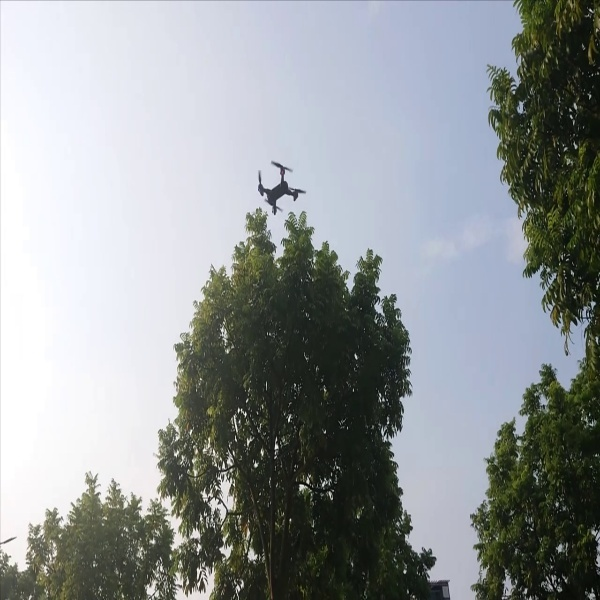drone: (245, 156, 311, 216)
